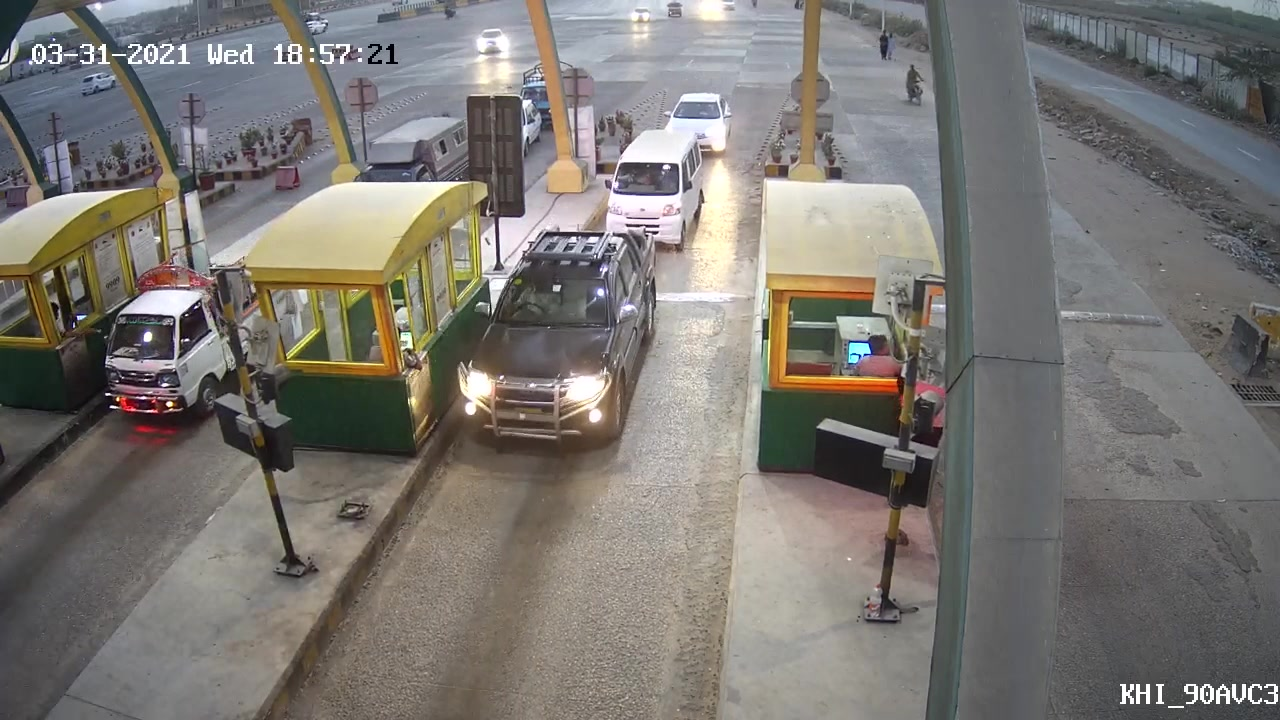F1: (458, 222, 661, 454)
